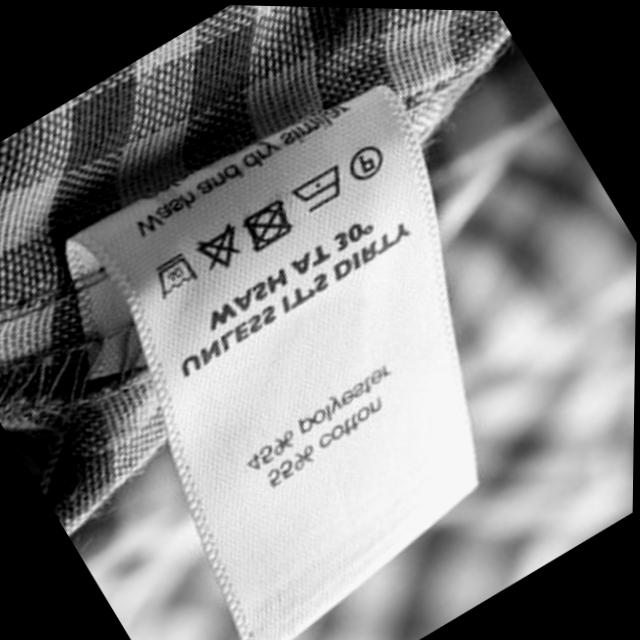DN_bleach: (196, 221, 241, 268)
DN_tumble_dry: (244, 199, 296, 251)
dry_clean_any_solvent_except_trichloroethylene: (348, 139, 389, 181)
iron_low: (294, 163, 344, 213)
machine_wash: (155, 253, 198, 296)
